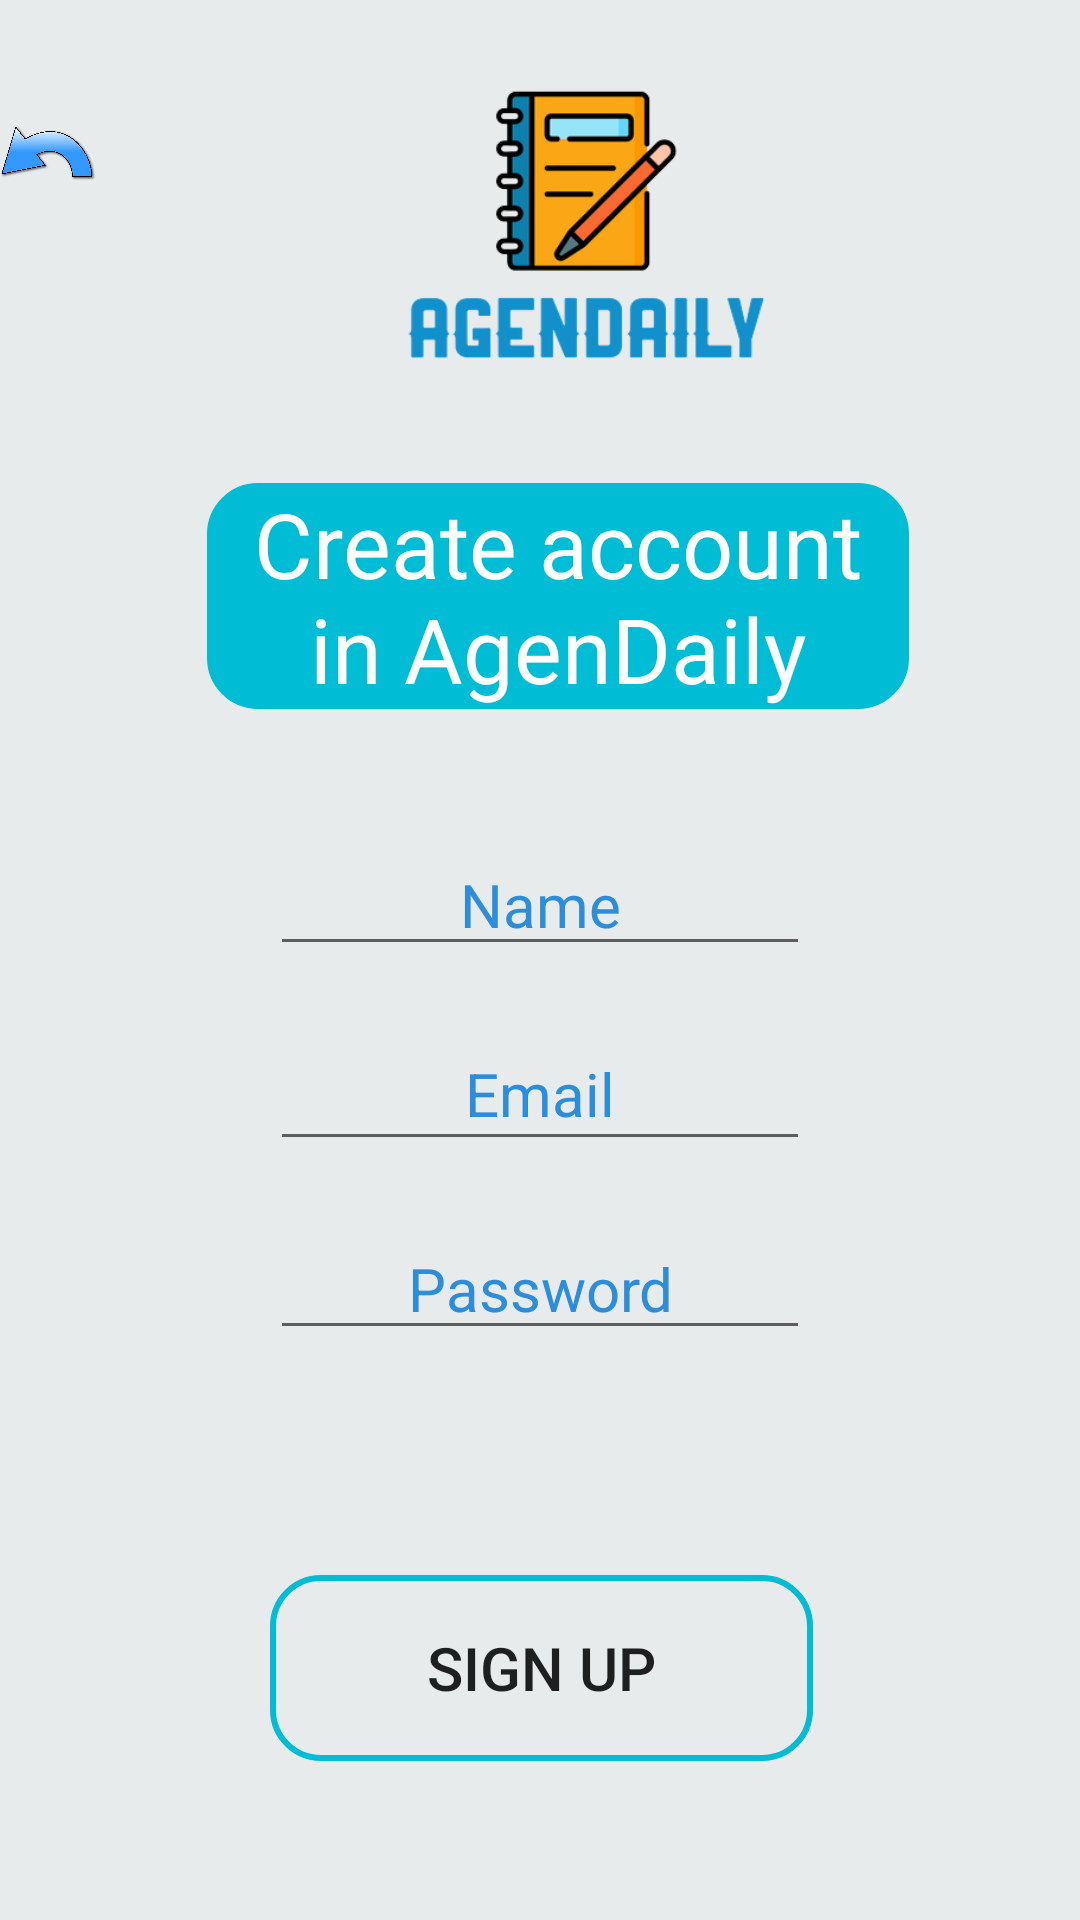

Where to tap for icons on this 1080 x 1920 app screen, as (x=x, y=y):
flecha: (x=47, y=153)
